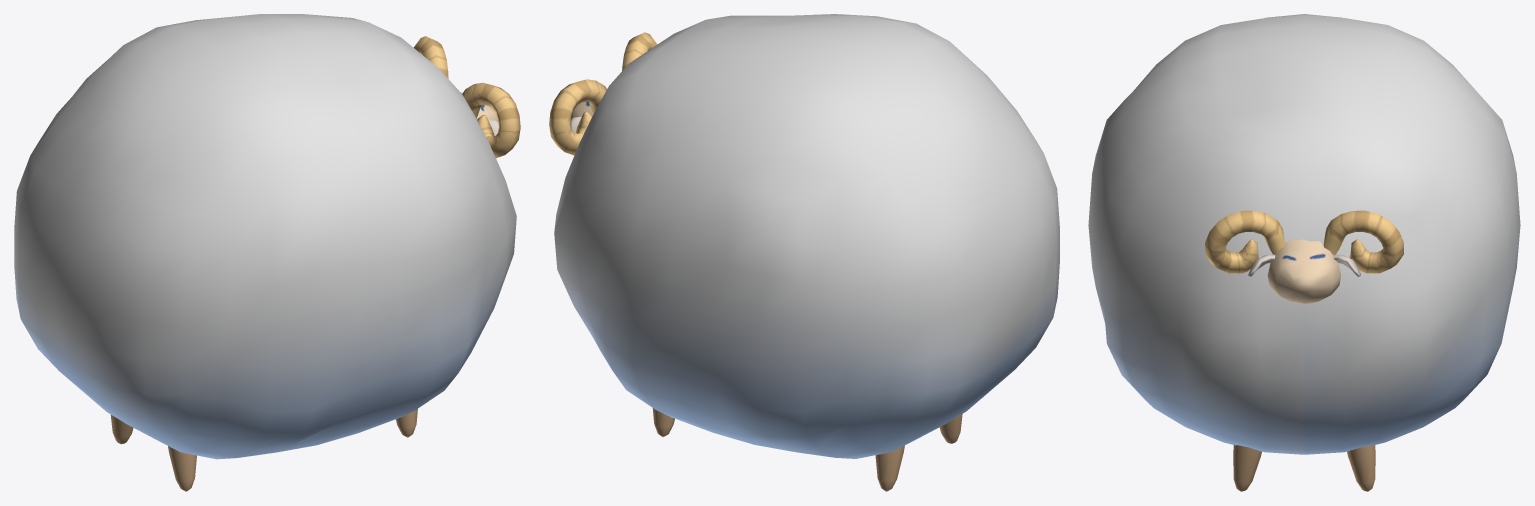
File: hitsuji_big.fbx
3 views of the same model, side by side, from view 1: azimuth 30°, elevation 25°; view 2: azimuth 150°, elevation 25°; view 3: azimuth 270°, elevation 25° (orthographic). The views are drawn at different scales.
Visible parts, largest first — view 1: pCube6, polySurface7, pCylinder3; view 2: pCube6, polySurface7, pCylinder3; view 3: pCube6, polySurface7, polySurface1, pCylinder3, polySurface8.
Part boxes in pixels (x1,y1,x2,y2): pCube6: [14, 14, 516, 459]; polySurface7: [413, 36, 520, 158]; pCylinder3: [110, 409, 417, 491]; pCube6: [554, 14, 1059, 458]; polySurface7: [549, 32, 657, 155]; pCylinder3: [652, 408, 962, 491]; pCube6: [1088, 14, 1520, 454]; polySurface7: [1205, 210, 1403, 273]; polySurface1: [1267, 239, 1340, 304]; pCylinder3: [1233, 445, 1375, 491]; polySurface8: [1248, 254, 1360, 276].
Size of the model in its own units: 285 by 246 by 245.
